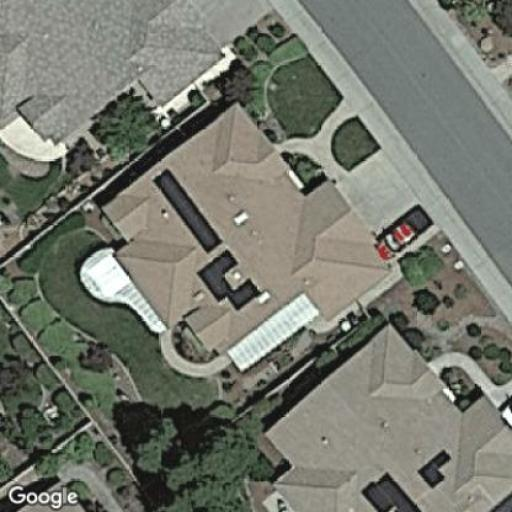solar-panel: (150, 165, 225, 258), (194, 248, 264, 313), (358, 467, 425, 511), (406, 447, 460, 487)
